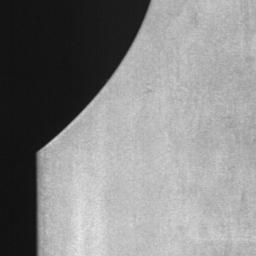Crescent gap: (39, 0, 150, 151)
